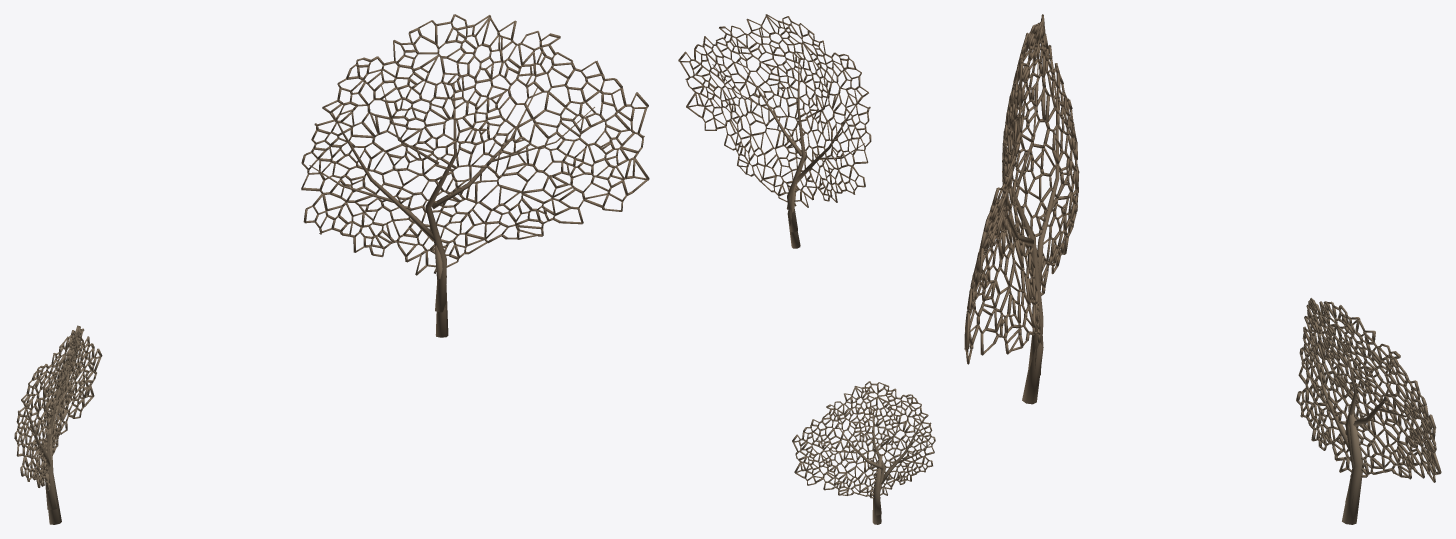
Rendered from low-fans.glb.
3 renders of one model, left to right at view 1: azimuth 30°, elevation 25°; view 2: azimuth 150°, elevation 25°; view 3: azimuth 270°, elevation 25°, orthographic. The views are drawn at different scales.
Visible parts, largest first — view 1: LOW_Attached_reticulate_fan_form, LOW_Attached_small_fan_form; view 2: LOW_Attached_reticulate_fan_form, LOW_Attached_small_fan_form; view 3: LOW_Attached_reticulate_fan_form, LOW_Attached_small_fan_form.
Part boxes in pixels (x1,y1,x2,y2): LOW_Attached_reticulate_fan_form: [301, 14, 649, 337]; LOW_Attached_small_fan_form: [14, 325, 102, 524]; LOW_Attached_reticulate_fan_form: [678, 14, 871, 248]; LOW_Attached_small_fan_form: [792, 381, 935, 524]; LOW_Attached_reticulate_fan_form: [964, 14, 1079, 404]; LOW_Attached_small_fan_form: [1296, 298, 1441, 524].
Size of the model in its own units: 2.19 by 2.3 by 1.55.
